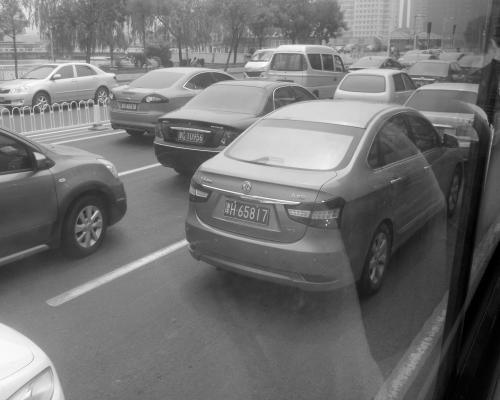Carplate: (219, 193, 275, 225)
